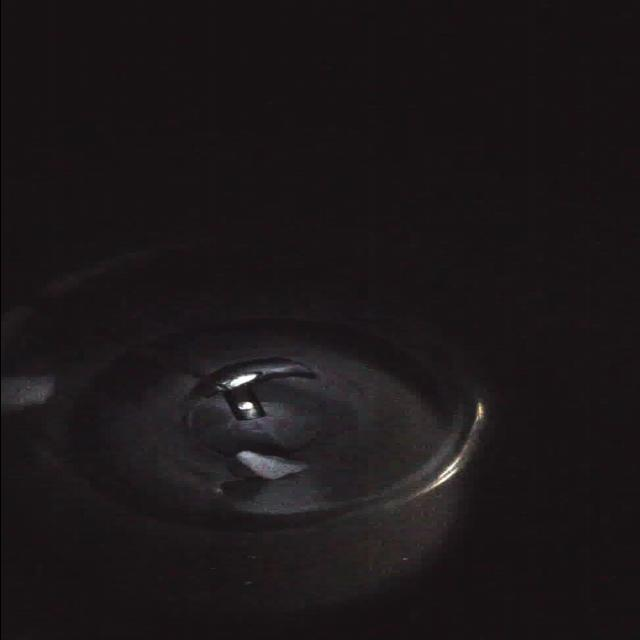impurity: (228, 443, 320, 485)
